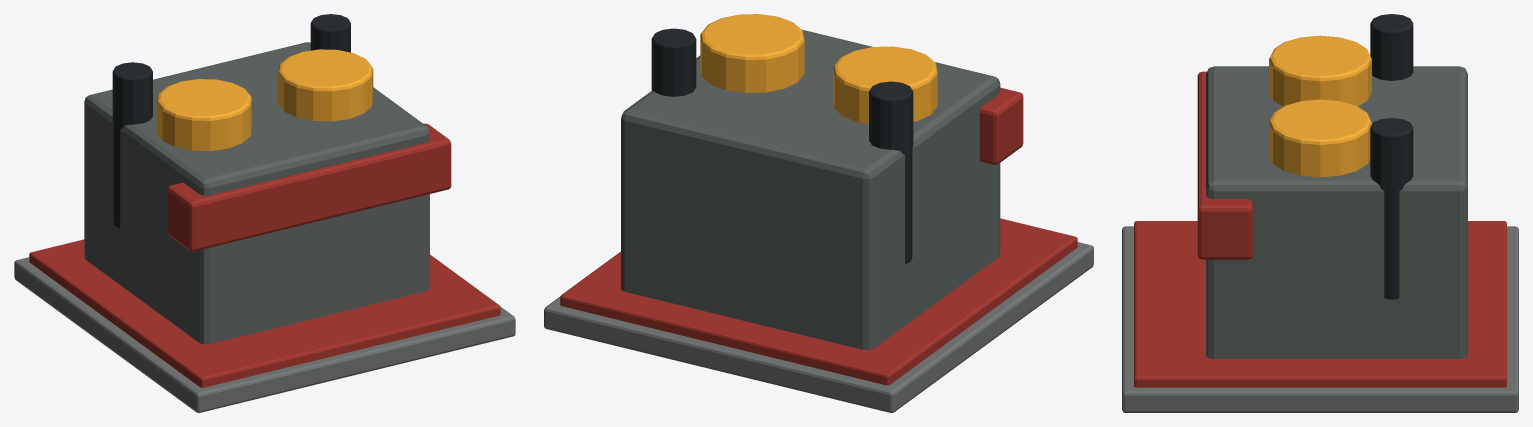
File: SM_Soviet_SU_PowerPlant.fbx
3 renders of one model, left to right at view 1: azimuth 30°, elevation 25°; view 2: azimuth 150°, elevation 25°; view 3: azimuth 270°, elevation 25°, orthographic. The views are drawn at different scales.
Visible parts, largest first — view 1: SM_Soviet_SU_PowerPlant_MainMass, SM_Soviet_SU_PowerPlant_FoundationTrim, SM_Soviet_SU_PowerPlant_ArmourBrow, SM_Soviet_SU_PowerPlant, SM_Soviet_SU_PowerPlant_Reactor_+1, SM_Soviet_SU_PowerPlant_Reactor_-1, SM_Soviet_SU_PowerPlant_Exhaust_-1, SM_Soviet_SU_PowerPlant_Exhaust_+1; view 2: SM_Soviet_SU_PowerPlant_MainMass, SM_Soviet_SU_PowerPlant_FoundationTrim, SM_Soviet_SU_PowerPlant, SM_Soviet_SU_PowerPlant_Reactor_+1, SM_Soviet_SU_PowerPlant_Reactor_-1, SM_Soviet_SU_PowerPlant_Exhaust_-1, SM_Soviet_SU_PowerPlant_Exhaust_+1, SM_Soviet_SU_PowerPlant_ArmourBrow; view 3: SM_Soviet_SU_PowerPlant_MainMass, SM_Soviet_SU_PowerPlant_FoundationTrim, SM_Soviet_SU_PowerPlant, SM_Soviet_SU_PowerPlant_Reactor_+1, SM_Soviet_SU_PowerPlant_Reactor_-1, SM_Soviet_SU_PowerPlant_Exhaust_+1, SM_Soviet_SU_PowerPlant_ArmourBrow, SM_Soviet_SU_PowerPlant_Exhaust_-1.
Boxes of the visible parts, x1,y1,x2,y2 form: SM_Soviet_SU_PowerPlant_MainMass: (84,42,429,344); SM_Soviet_SU_PowerPlant_FoundationTrim: (29,239,500,387); SM_Soviet_SU_PowerPlant_ArmourBrow: (167,123,451,251); SM_Soviet_SU_PowerPlant: (14,257,515,412); SM_Soviet_SU_PowerPlant_Reactor_+1: (278,49,373,121); SM_Soviet_SU_PowerPlant_Reactor_-1: (156,79,251,150); SM_Soviet_SU_PowerPlant_Exhaust_-1: (112,62,152,228); SM_Soviet_SU_PowerPlant_Exhaust_+1: (310,14,350,52); SM_Soviet_SU_PowerPlant_MainMass: (621,29,1000,350); SM_Soviet_SU_PowerPlant_FoundationTrim: (560,218,1077,385); SM_Soviet_SU_PowerPlant: (544,242,1093,412); SM_Soviet_SU_PowerPlant_Reactor_+1: (700,14,804,92); SM_Soviet_SU_PowerPlant_Reactor_-1: (833,46,937,124); SM_Soviet_SU_PowerPlant_Exhaust_-1: (869,81,913,263); SM_Soviet_SU_PowerPlant_Exhaust_+1: (651,28,696,96); SM_Soviet_SU_PowerPlant_ArmourBrow: (979,87,1023,164); SM_Soviet_SU_PowerPlant_MainMass: (1206,66,1467,358); SM_Soviet_SU_PowerPlant_FoundationTrim: (1134,221,1506,387); SM_Soviet_SU_PowerPlant: (1122,226,1518,412); SM_Soviet_SU_PowerPlant_Reactor_+1: (1269,99,1371,177); SM_Soviet_SU_PowerPlant_Reactor_-1: (1269,35,1371,106); SM_Soviet_SU_PowerPlant_Exhaust_+1: (1370,118,1413,299); SM_Soviet_SU_PowerPlant_ArmourBrow: (1197,71,1252,259); SM_Soviet_SU_PowerPlant_Exhaust_-1: (1370,14,1413,80).
Size of what is drawn, in the model's own units: 600 by 600 by 428.
